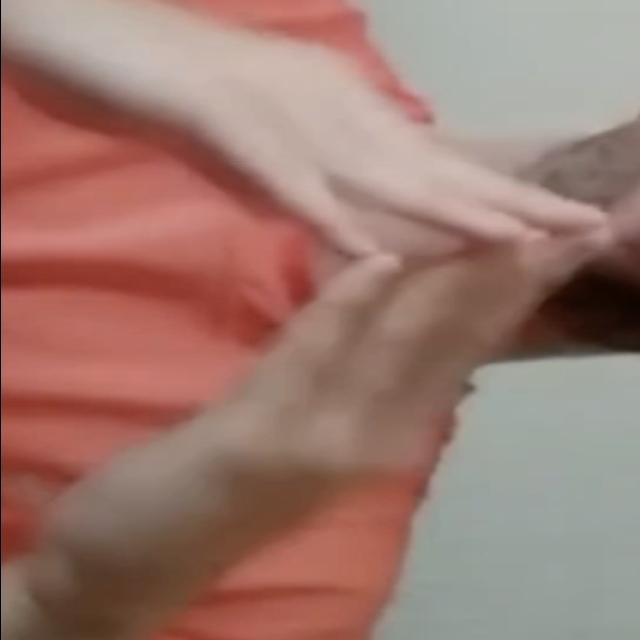casa: (24, 13, 608, 626)
